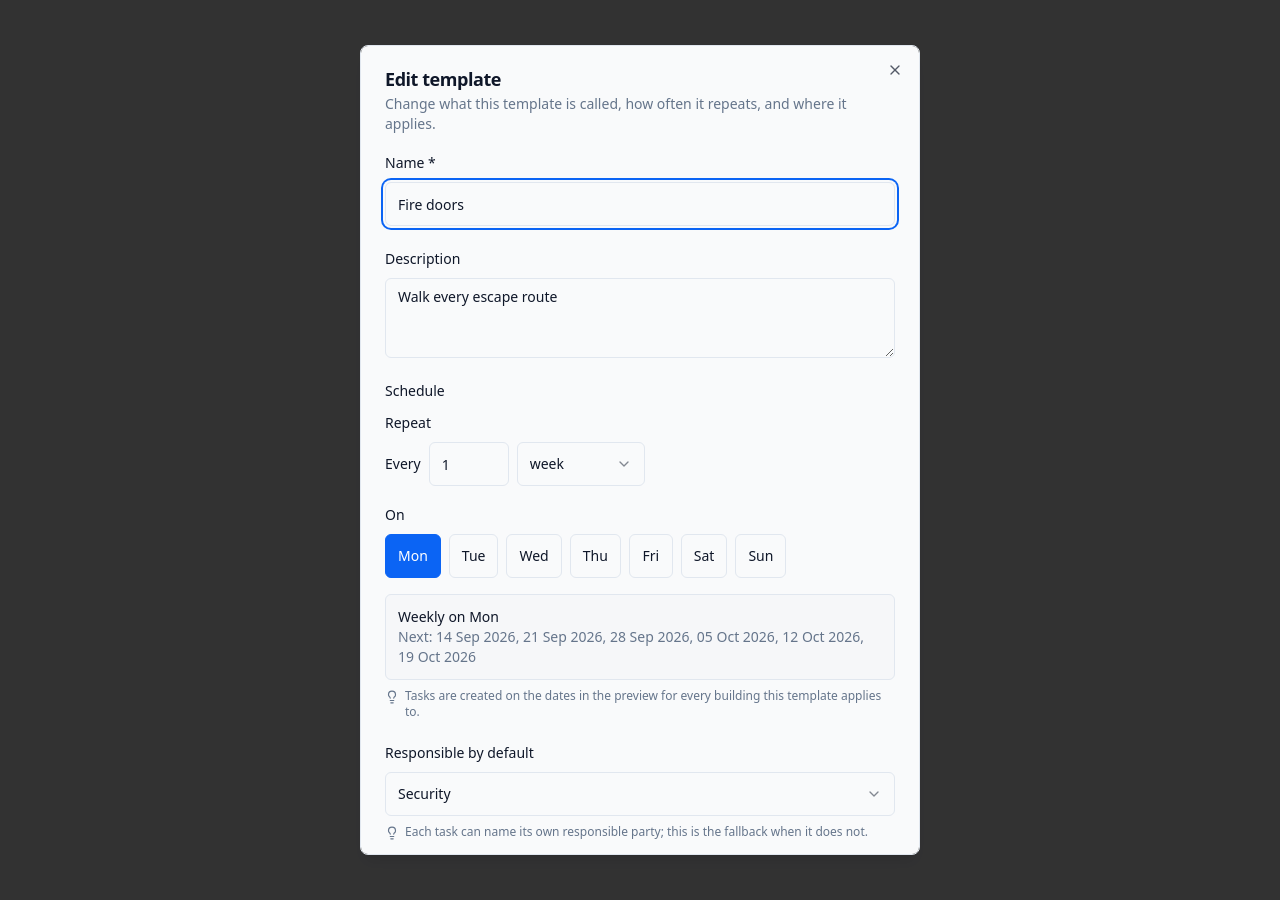
it: TemplateDialog › falls back to the countless sentence when the head-count errors
Step 1. Click the button with aria-label "Wednesday" → [534, 556], box [506, 534, 562, 578]
(page scrolled)
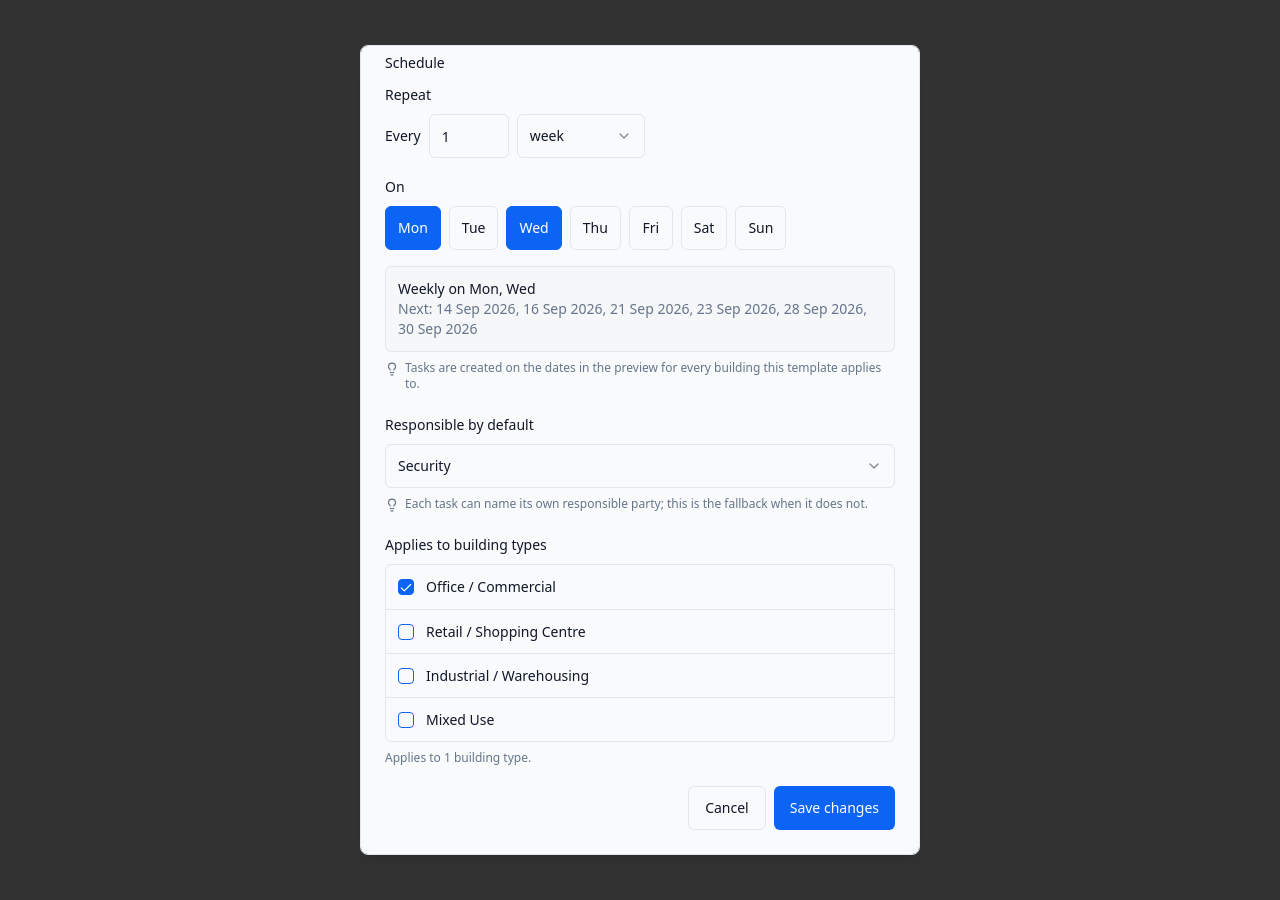
Step 2. Click the button "Save changes" → [834, 808], box [774, 786, 895, 830]
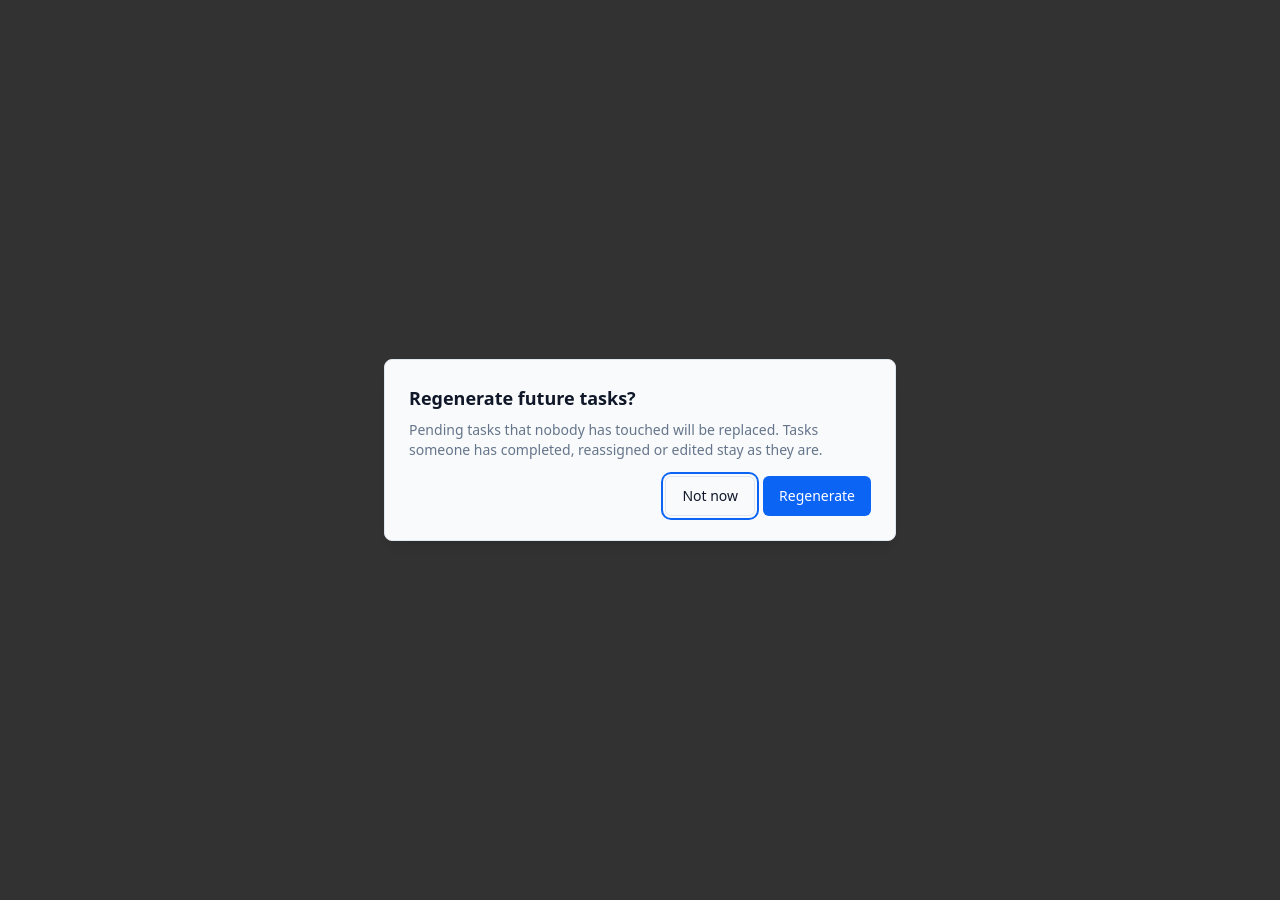
Check: the text "Pending tasks that nobody has touched will be replaced" is shown, box [409, 420, 779, 439]
